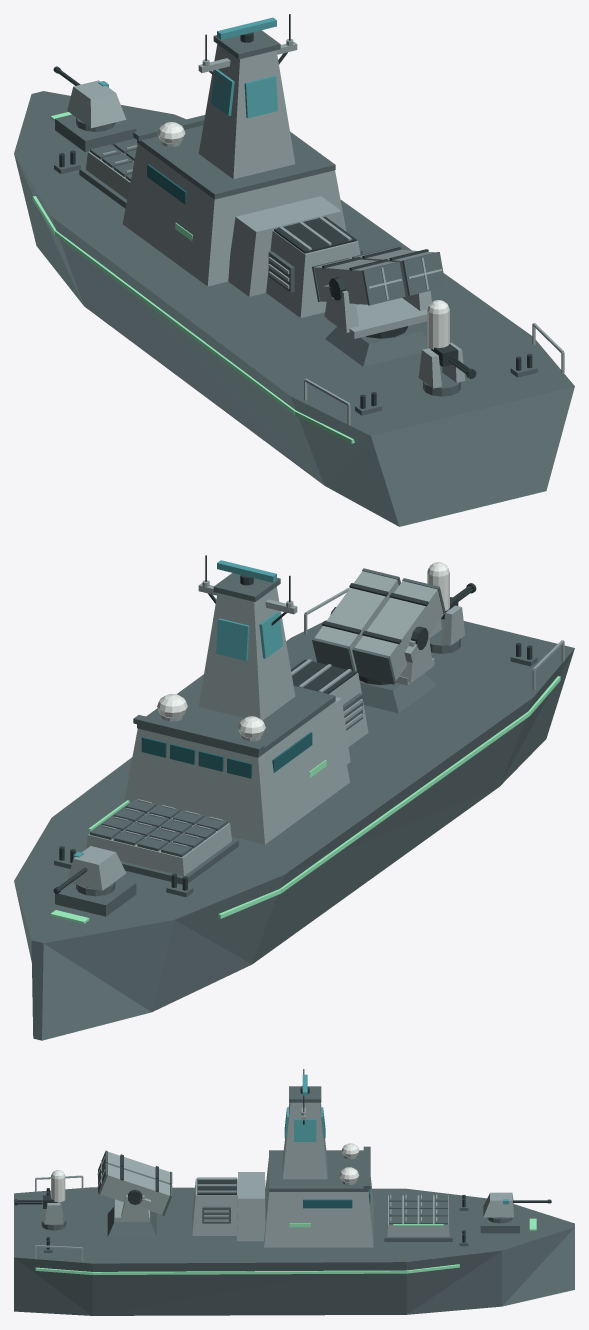
The model's file is ESC_CAP_T3.fbx.
The picture shows the model from 3 angles, top to bottom: view 1: azimuth 30°, elevation 25°; view 2: azimuth 150°, elevation 25°; view 3: azimuth 270°, elevation 25°; orthographic projection. The views are drawn at different scales.
Parts seen in each view (by area): view 1: ContinuousHull.003, Deckhouse.003, IntegratedRadarEnclosure.001, Roof.003, AftServiceCabin.003, FunnelEnclosure.003, SAMFixedPedestal.002, SAMSlewTable, PrimaryGunCupola.003, RoleHullStripe-1_1, PrimaryGunDeckPlinth, SAMCanisterBank_02 (+10 smaller); view 2: ContinuousHull.003, Deckhouse.003, IntegratedRadarEnclosure.001, Roof.003, SAMCanisterBank_02, SAMCanisterBank_01, ForwardVLSCasing.003, PrimaryGunCupola.003, SAMFixedPedestal.002, PrimaryGunDeckPlinth, RoleHullStripe-1_1, BridgeBrow (+11 smaller); view 3: ContinuousHull.003, Deckhouse.003, IntegratedRadarEnclosure.001, Roof.003, AftServiceCabin.003, SAMCanisterBank_01, FunnelEnclosure.003, RoleHullStripe1_1, ForwardVLSCasing.003, SAMFixedPedestal.002, SAMCanisterBank_02, PrimaryGunCupola.003 (+11 smaller).
Boxes of the visible parts, x1=… form: ContinuousHull.003: x1=14, y1=91, x2=574, y2=526; Deckhouse.003: x1=122, y1=143, x2=346, y2=286; IntegratedRadarEnclosure.001: x1=198, y1=44, x2=295, y2=179; Roof.003: x1=137, y1=125, x2=335, y2=199; AftServiceCabin.003: x1=228, y1=196, x2=344, y2=296; FunnelEnclosure.003: x1=266, y1=230, x2=360, y2=317; SAMFixedPedestal.002: x1=325, y1=325, x2=431, y2=366; SAMSlewTable: x1=327, y1=297, x2=427, y2=338; PrimaryGunCupola.003: x1=67, y1=80, x2=126, y2=128; RoleHullStripe-1_1: x1=55, y1=231, x2=295, y2=414; PrimaryGunDeckPlinth: x1=55, y1=114, x2=136, y2=152; SAMCanisterBank_02: x1=314, y1=258, x2=395, y2=304; ContinuousHull.003: x1=14, y1=619, x2=574, y2=1040; Deckhouse.003: x1=123, y1=702, x2=349, y2=844; IntegratedRadarEnclosure.001: x1=198, y1=587, x2=295, y2=720; Roof.003: x1=137, y1=674, x2=335, y2=757; SAMCanisterBank_02: x1=355, y1=581, x2=443, y2=680; SAMCanisterBank_01: x1=314, y1=571, x2=398, y2=671; ForwardVLSCasing.003: x1=86, y1=805, x2=231, y2=876; PrimaryGunCupola.003: x1=68, y1=846, x2=126, y2=890; SAMFixedPedestal.002: x1=359, y1=673, x2=436, y2=713; PrimaryGunDeckPlinth: x1=55, y1=879, x2=136, y2=916; RoleHullStripe-1_1: x1=280, y1=711, x2=529, y2=893; BridgeBrow: x1=133, y1=715, x2=264, y2=753; ContinuousHull.003: x1=14, y1=1187, x2=574, y2=1315; Deckhouse.003: x1=264, y1=1158, x2=373, y2=1247; IntegratedRadarEnclosure.001: x1=282, y1=1102, x2=327, y2=1179; Roof.003: x1=269, y1=1150, x2=368, y2=1191; AftServiceCabin.003: x1=237, y1=1172, x2=265, y2=1241; SAMCanisterBank_01: x1=100, y1=1164, x2=169, y2=1214; FunnelEnclosure.003: x1=192, y1=1178, x2=237, y2=1235; RoleHullStripe1_1: x1=92, y1=1270, x2=406, y2=1274; ForwardVLSCasing.003: x1=387, y1=1195, x2=449, y2=1236; SAMFixedPedestal.002: x1=107, y1=1206, x2=156, y2=1236; SAMCanisterBank_02: x1=107, y1=1151, x2=169, y2=1184; PrimaryGunCupola.003: x1=483, y1=1192, x2=513, y2=1217.
Size of the model in its own units: 290 by 365 by 900.
